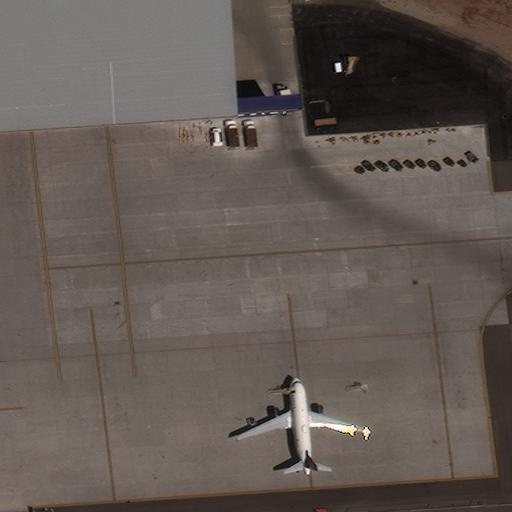Medium Civil Transport: (236, 378, 363, 475)
